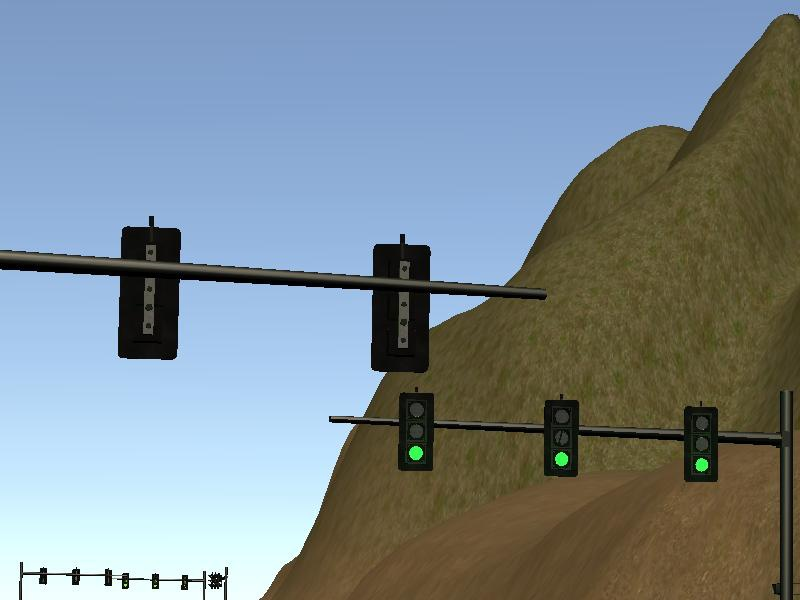Green: (543, 401, 578, 477), (399, 393, 433, 471), (684, 407, 719, 482), (120, 572, 128, 590), (151, 573, 160, 589)
Off: (181, 575, 188, 588)
